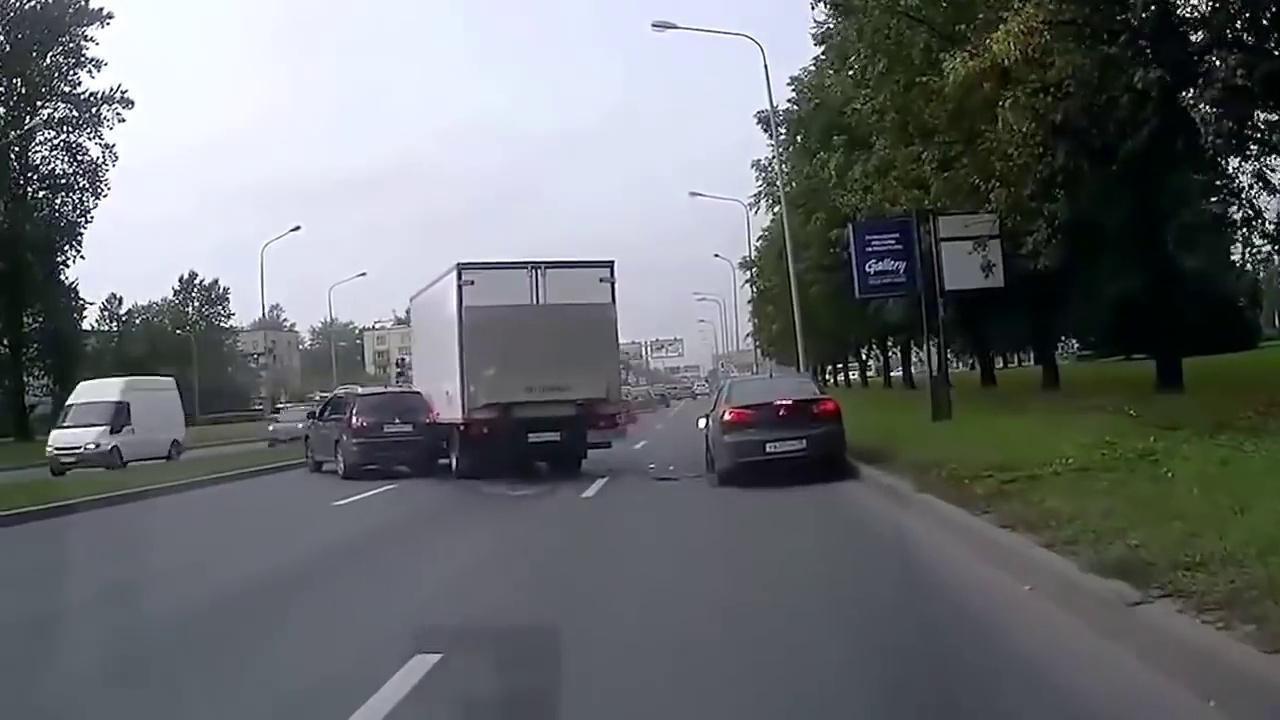car-accident: (297, 253, 629, 486)
